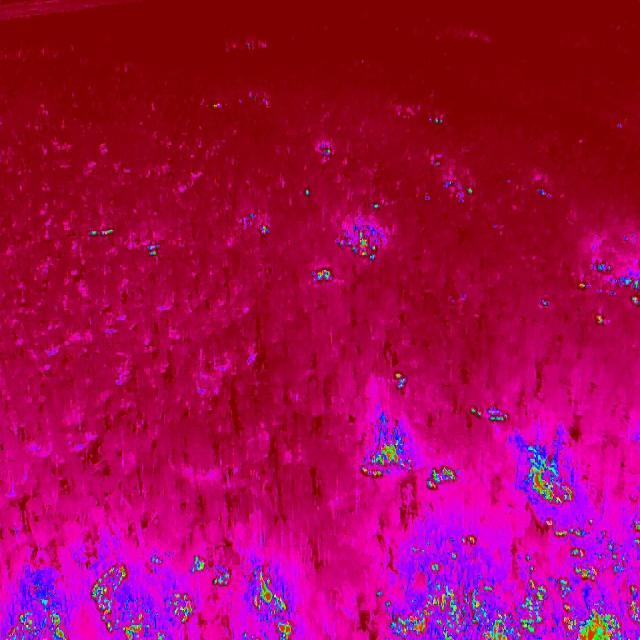fire: (385, 517, 640, 640), (0, 550, 292, 640), (362, 432, 457, 498), (578, 256, 640, 326), (308, 224, 380, 284), (521, 444, 578, 514), (386, 366, 412, 392), (88, 226, 113, 242)
